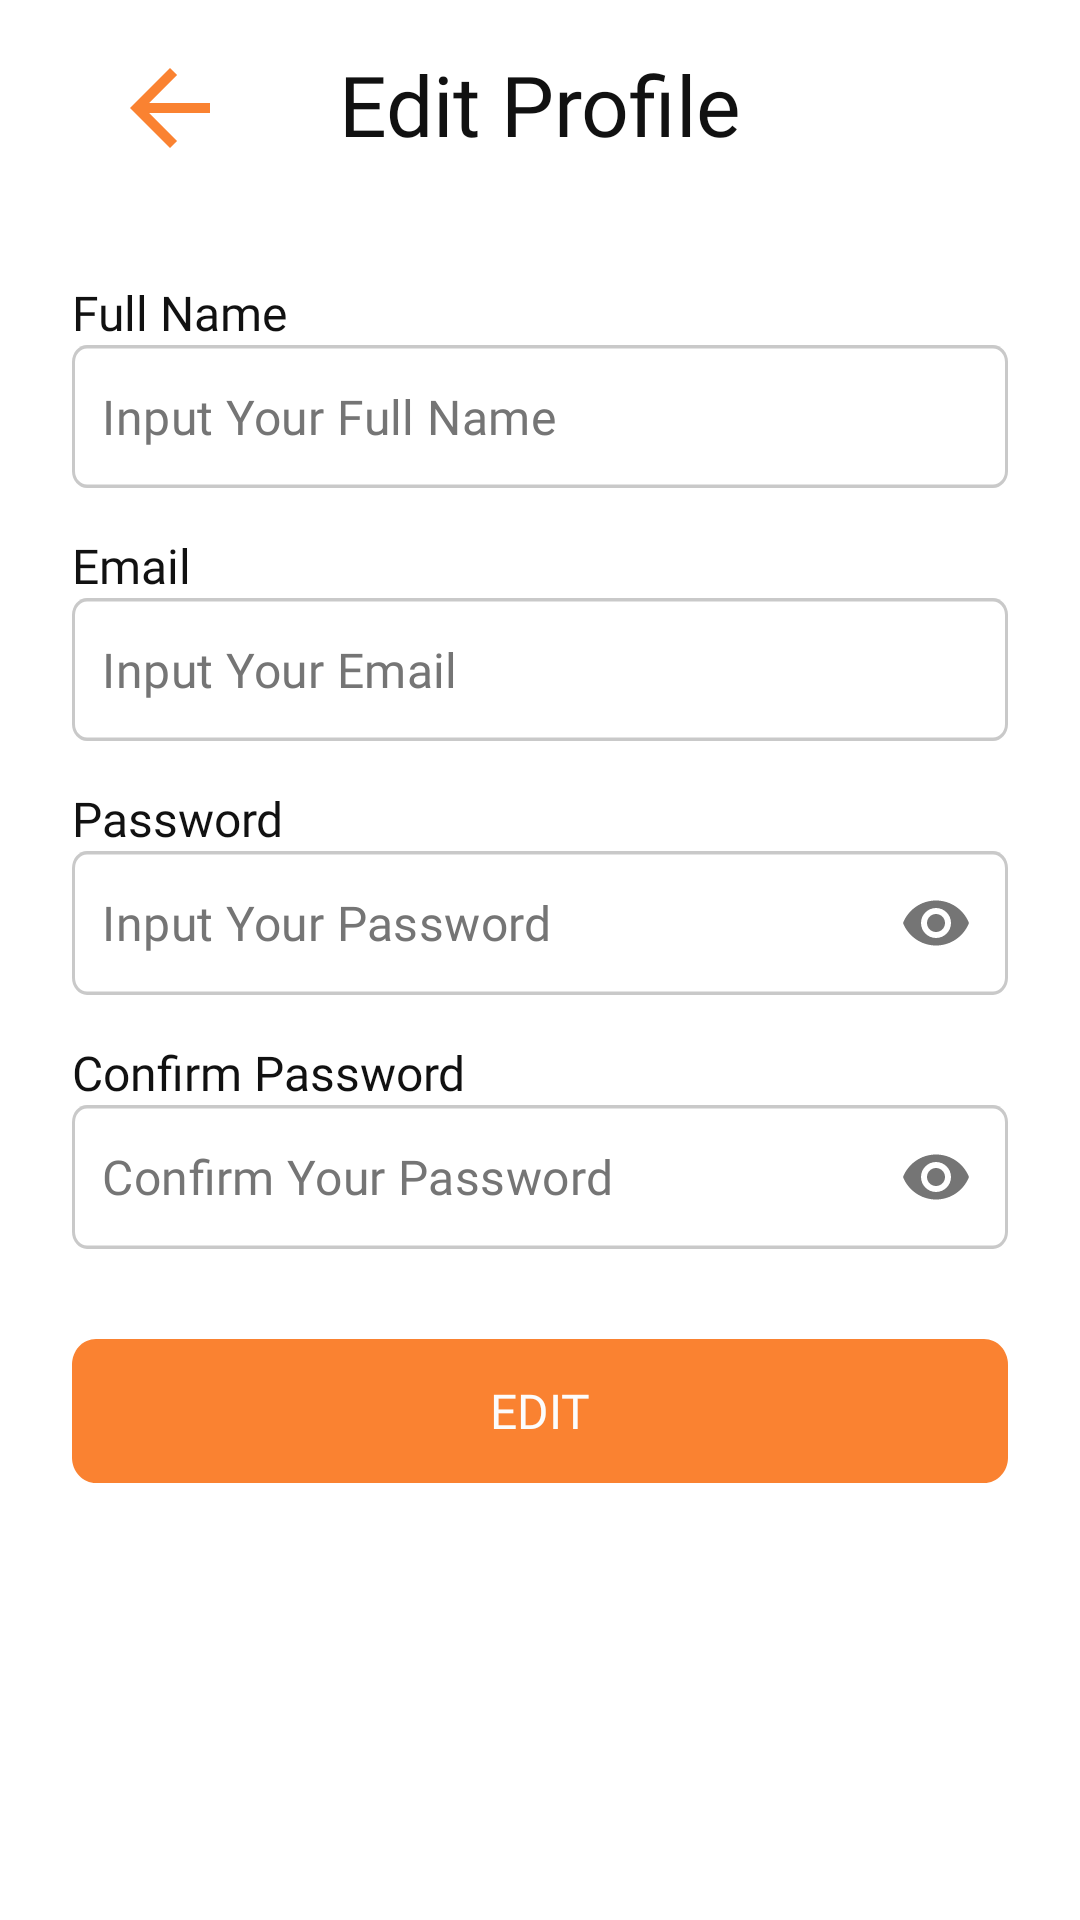

Screen size 1080*1920. Icon name, then its box in pixels as (x1, y1, x2, y2):
Button Back To Profile: (130, 68, 210, 148)
